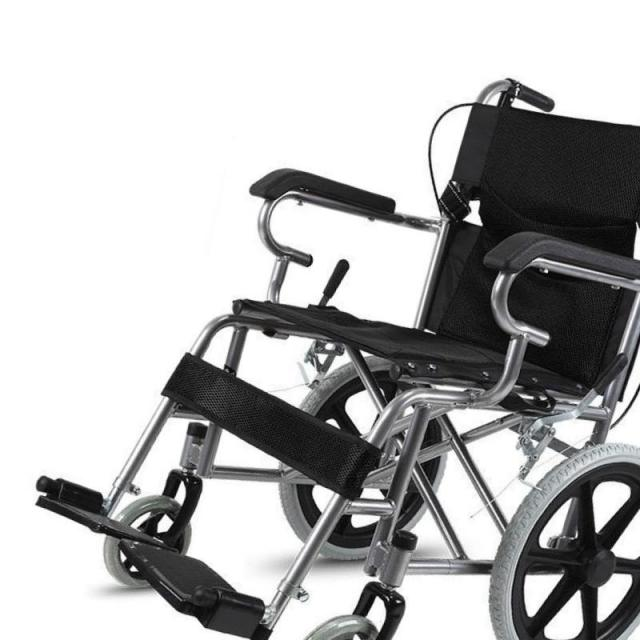wheelchair: (18, 66, 640, 640)
